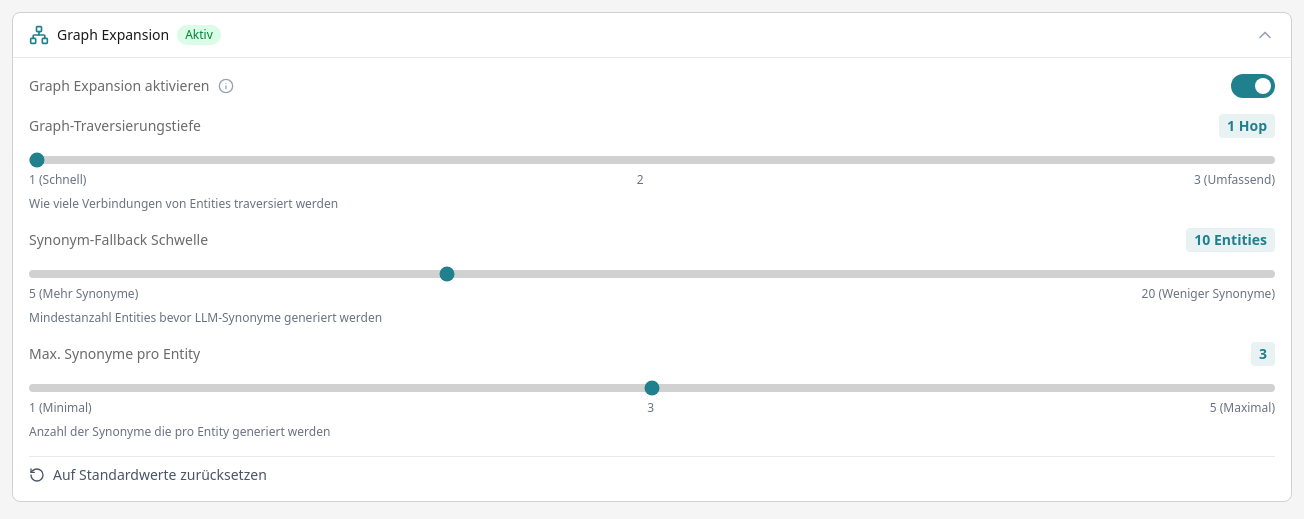
Test: GraphExpansionSettings › GraphExpansionSettings Component › toggles enabled state
The image size is (1304, 519).
Note: Toggle off
Click the switch with test id "graph-expansion-toggle". click: click(1253, 86)
box: [1231,74,1275,98]
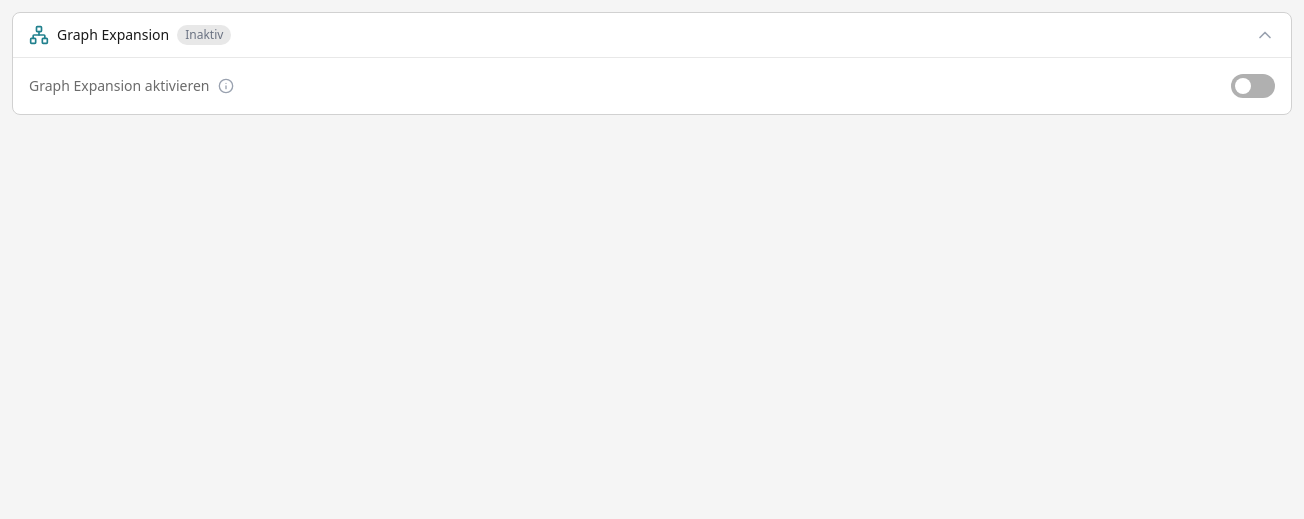
Now the text "Inaktiv" is shown, box [177,25,231,45]
